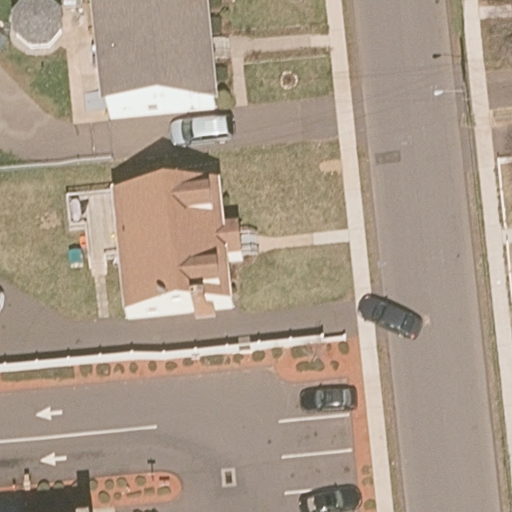DT: (432, 78, 472, 115)
